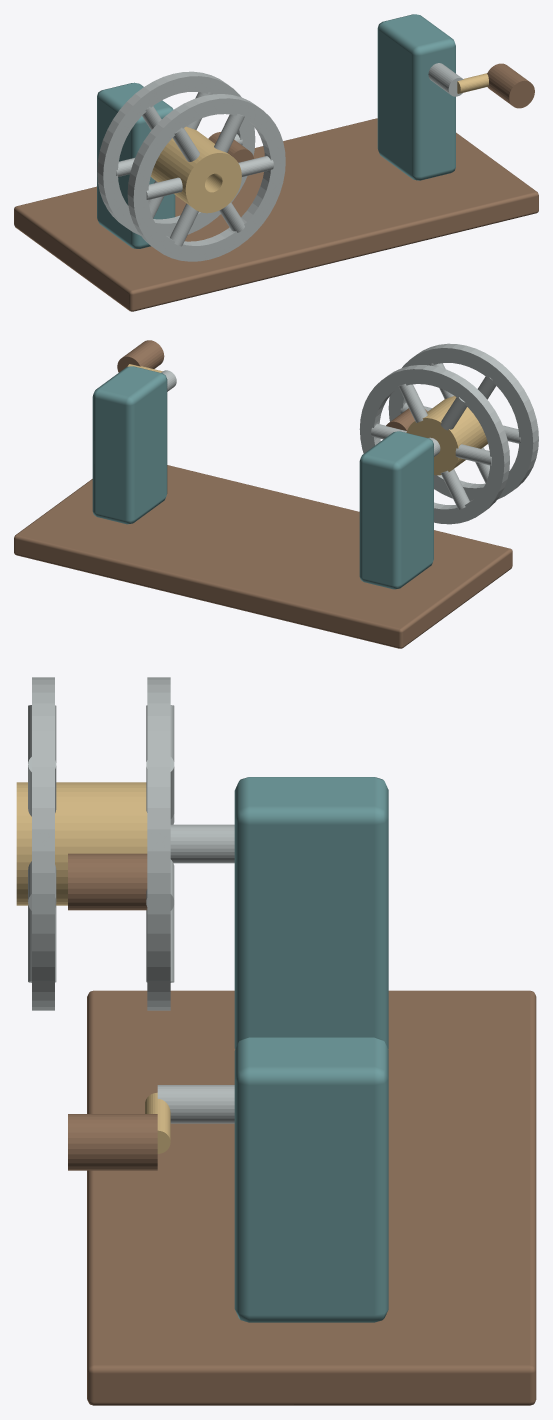
Rendered from abandoned-cinema-and-projection-booth-abandoned-cinema-107e1a96__29709.glb.
3 renders of one model, top to bottom at view 1: azimuth 30°, elevation 25°; view 2: azimuth 150°, elevation 25°; view 3: azimuth 270°, elevation 25°, orthographic. The views are drawn at different scales.
Parts seen in each view (by area): view 1: abandoned-cinema-and-projection-booth-film-rewinder; view 2: abandoned-cinema-and-projection-booth-film-rewinder; view 3: abandoned-cinema-and-projection-booth-film-rewinder.
Boxes of the visible parts, x1=… form: abandoned-cinema-and-projection-booth-film-rewinder: x1=14, y1=14, x2=538, y2=311; abandoned-cinema-and-projection-booth-film-rewinder: x1=14, y1=340, x2=538, y2=648; abandoned-cinema-and-projection-booth-film-rewinder: x1=16, y1=677, x2=536, y2=1405.
Bounding box in the file's own units: 0.72 × 0.34 × 0.405.
